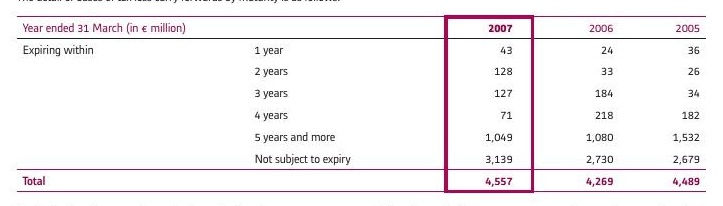table: (0, 0, 723, 206)
